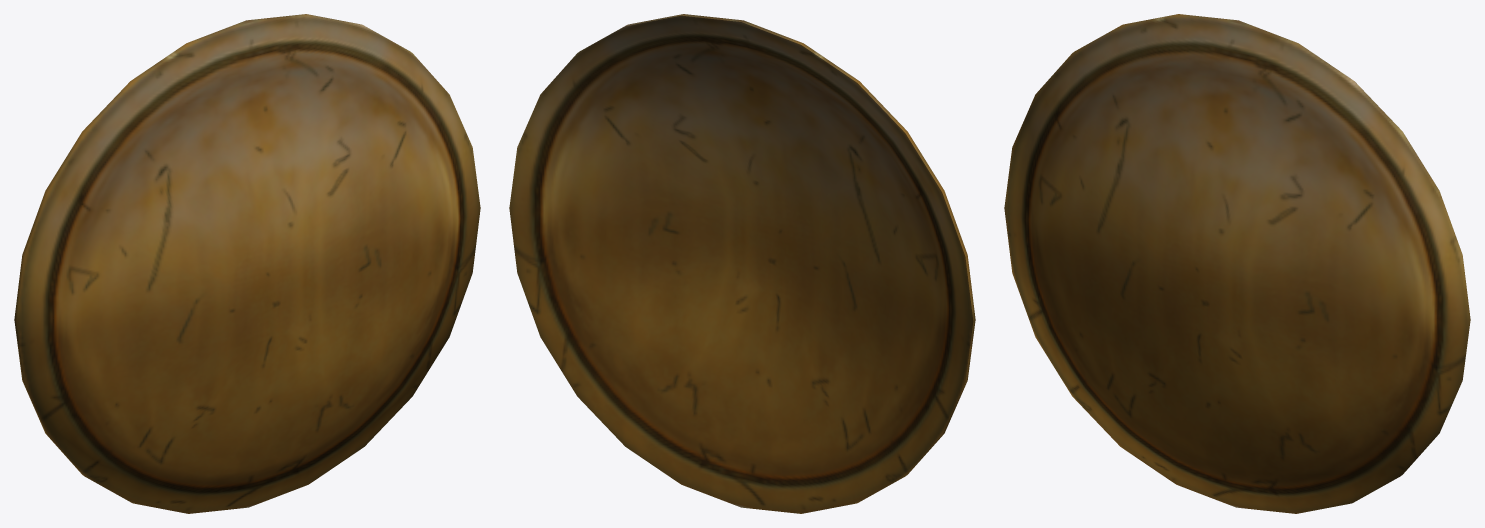
File: shield_gara_m.dae
3 renders of one model, left to right at view 1: azimuth 30°, elevation 25°; view 2: azimuth 150°, elevation 25°; view 3: azimuth 330°, elevation 25°, orthographic.
Visible parts, largest first — view 1: gara_metal; view 2: gara_metal; view 3: gara_metal.
Boxes of the visible parts, box(x1,y1,x2,y2) form: gara_metal: box(14, 14, 480, 513); gara_metal: box(509, 14, 975, 513); gara_metal: box(1004, 14, 1470, 513).
Size of the model in its own units: 1.88 by 0.2221 by 1.88.
